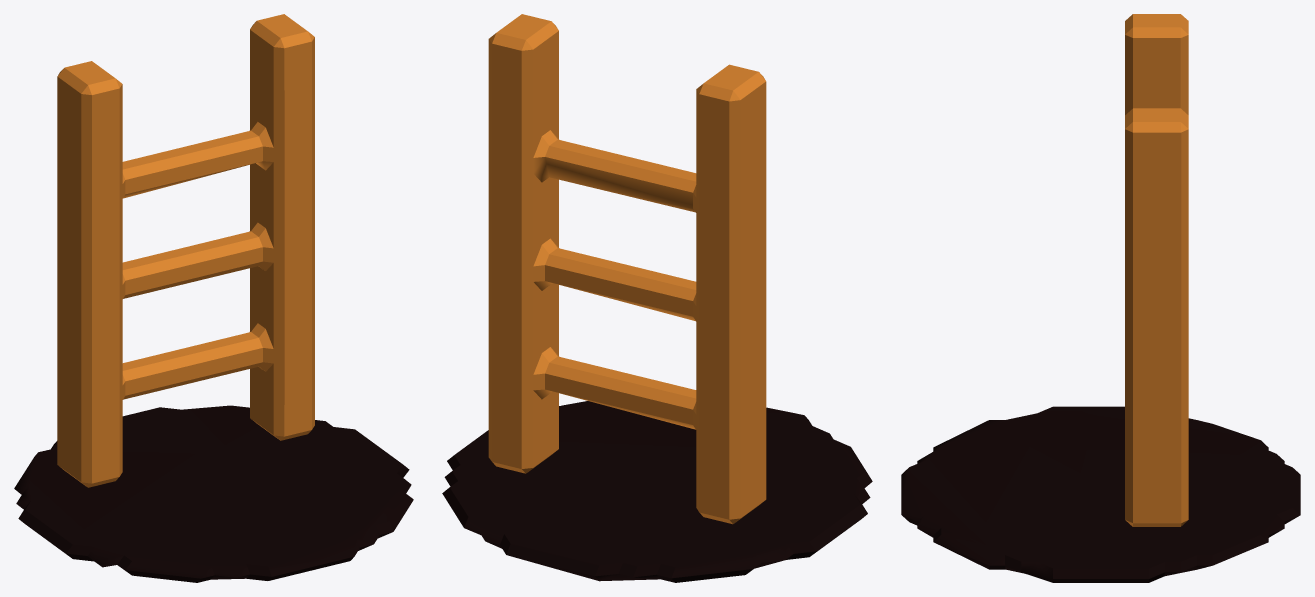
The model's file is Ladder_LOD1.fbx.
3 renders of one model, left to right at view 1: azimuth 30°, elevation 25°; view 2: azimuth 150°, elevation 25°; view 3: azimuth 270°, elevation 25°, orthographic. The views are drawn at different scales.
Visible parts, largest first — view 1: node; view 2: node; view 3: node.
Boxes of the visible parts, x1,y1,x2,y2 form: node: (14,14,413,582); node: (442,14,872,582); node: (901,14,1300,582).
Size of the model in its own units: 2500 by 3002 by 2502.
